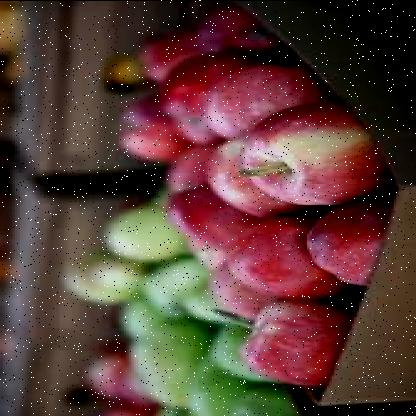apple: (240, 106, 378, 206), (242, 296, 366, 388), (220, 221, 335, 302), (154, 48, 252, 136), (300, 198, 398, 282), (203, 137, 305, 215), (114, 94, 206, 168), (208, 66, 307, 132), (154, 196, 240, 260), (183, 5, 275, 57)
